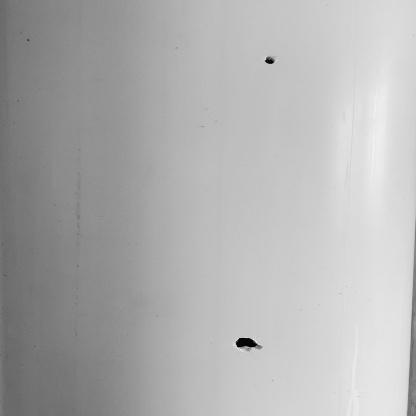kongdong: (202, 319, 294, 363), (258, 55, 280, 74)
